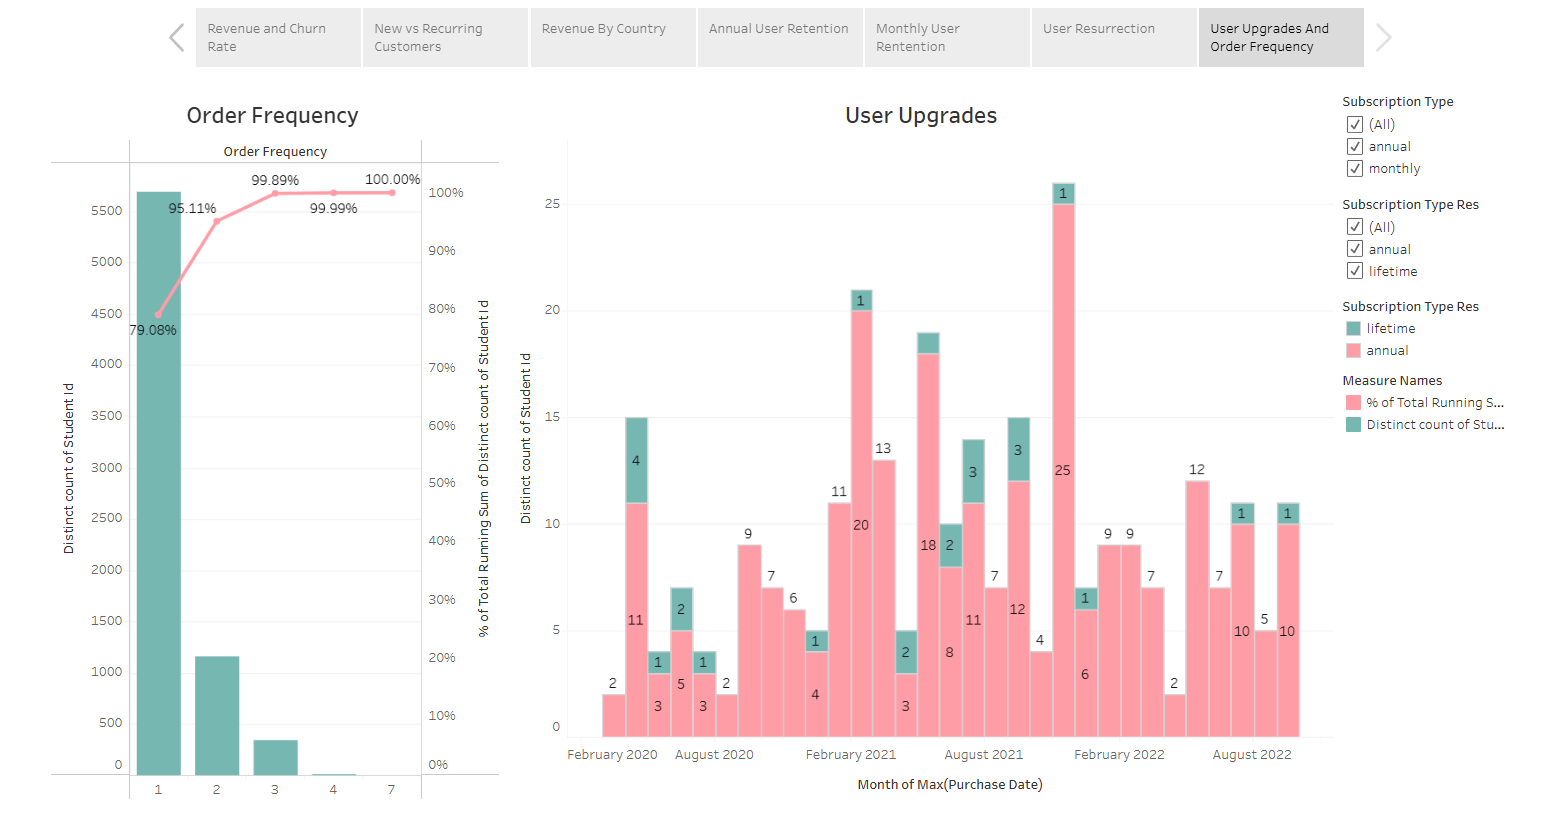

What the dashboard file says about the page in this screenshot:
{"tool":"tableau","page":{"name":"Upgrades and frequency","canvas":[1350,667],"ordinal":4},"visuals":[{"type":"worksheet","title":"Order Frequency ","mark":"Bar","rows":["student_id","student_id"],"cols":["Calculation_1093248825419616256"],"box":[8,8,416,651]},{"type":"worksheet","title":"User Upgrades","mark":"Bar","rows":["student_id"],"cols":["max(purchase_date)"],"box":[424,8,758,651]},{"type":"filter","title":"User Upgrades","param":"[federated.1s1mn69169f0w615uy8e602kslg6].[none:Subscription Type:nk]","box":[1182,8,160,89]},{"type":"filter","title":"User Upgrades","param":"[federated.1s1mn69169f0w615uy8e602kslg6].[none:Subscription Type Res:nk]","box":[1182,97,160,89]},{"type":"legend","title":"User Upgrades","param":"[federated.1s1mn69169f0w615uy8e602kslg6].[none:Subscription Type Res:nk]","box":[1182,186,160,66]},{"type":"legend","title":"Order Frequency ","param":"[federated.0jguc9h07y3epi10oer9z08un7qk].[:Measure Names]","box":[1182,252,160,66]}]}

Visuals, with their boxes on the page's 1350x667 design canvas (x1, y1, x2, y2). These are canvas units, not pixel positions in the 1559x817 screenshot, which may show the page scaled, cropped or inside an application window:
"Order Frequency " worksheet (Bar marks): (x1=8, y1=8, x2=424, y2=659)
"User Upgrades" worksheet (Bar marks): (x1=424, y1=8, x2=1182, y2=659)
"User Upgrades" filter: (x1=1182, y1=8, x2=1342, y2=97)
"User Upgrades" filter: (x1=1182, y1=97, x2=1342, y2=186)
"User Upgrades" legend: (x1=1182, y1=186, x2=1342, y2=252)
"Order Frequency " legend: (x1=1182, y1=252, x2=1342, y2=318)
